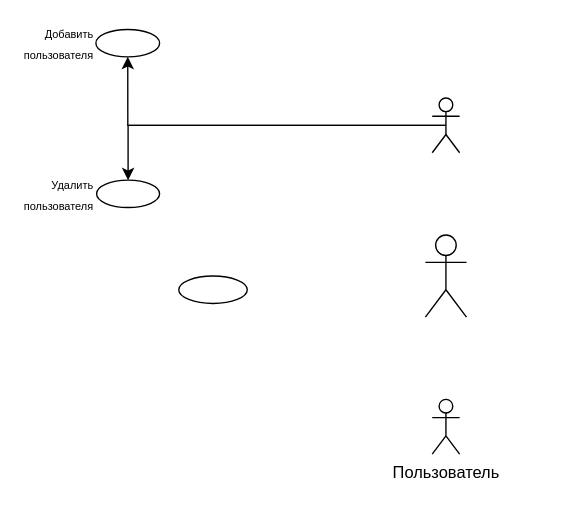
Image size: 581x507. Some labels were removed from this diagram. The shapes that lost their labels are listed below. From the top down, each one's centre as x and y in pixels, then its label:
point 445,125: Инспектор МВД
point 445,275: Администратор базы данных
